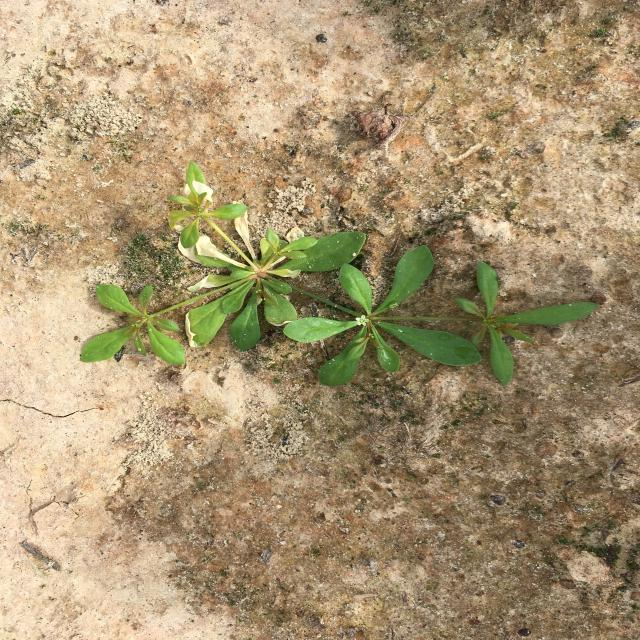Carpetweed: (81, 160, 598, 387)
